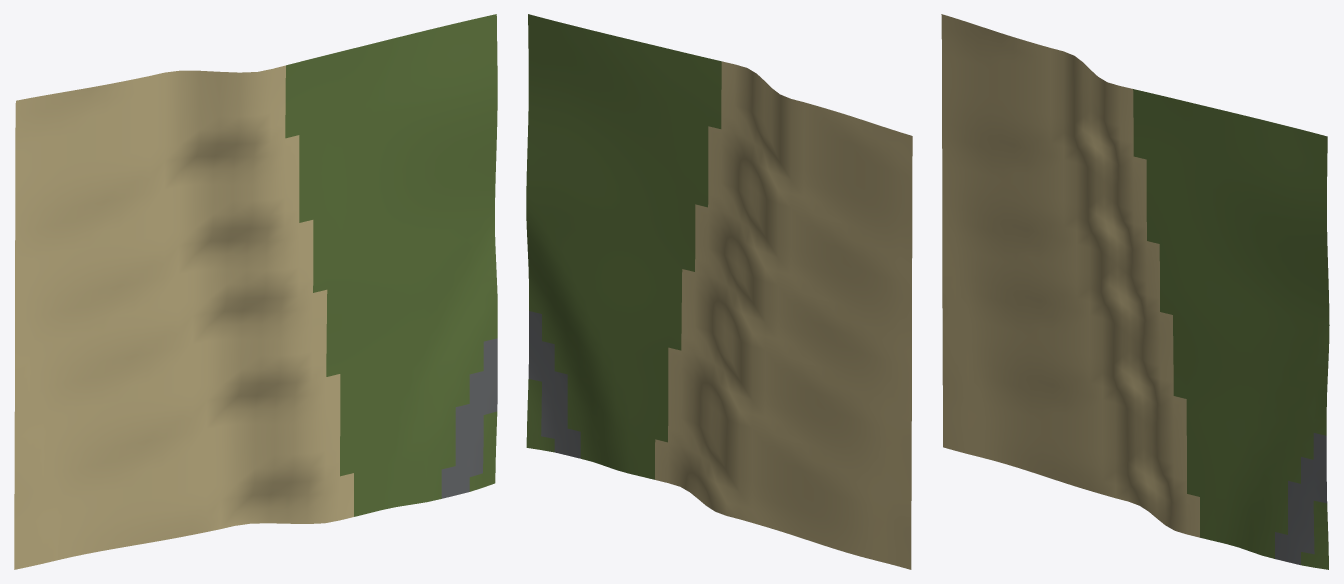
The model's file is island_terrain_01_06.obj.
3 views of the same model, side by side, from view 1: azimuth 30°, elevation 25°; view 2: azimuth 150°, elevation 25°; view 3: azimuth 330°, elevation 25° (orthographic). The views are drawn at different scales.
Parts seen in each view (by area): view 1: island_terrain_01_06; view 2: island_terrain_01_06; view 3: island_terrain_01_06.
Boxes of the visible parts, x1,y1,x2,y2 form: island_terrain_01_06: (14, 14, 497, 569); island_terrain_01_06: (526, 14, 912, 569); island_terrain_01_06: (941, 14, 1329, 569).
Bounding box in the file's own units: 256 × 256 × 33.58.
